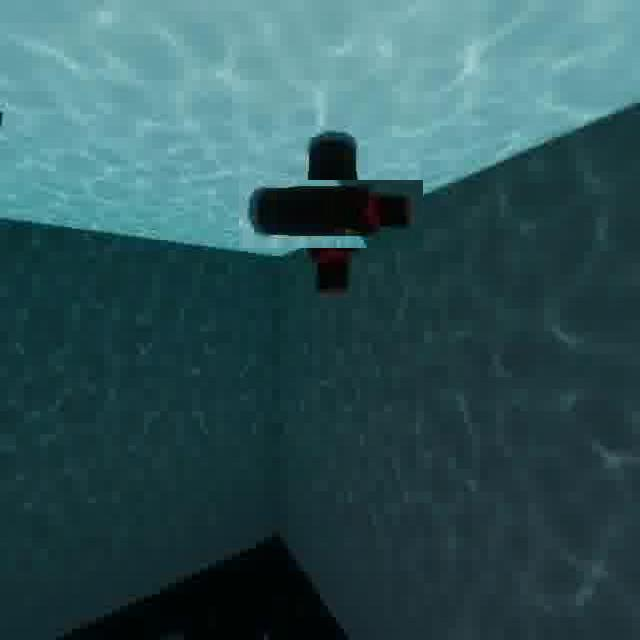Cylinder: (267, 151, 393, 277)
